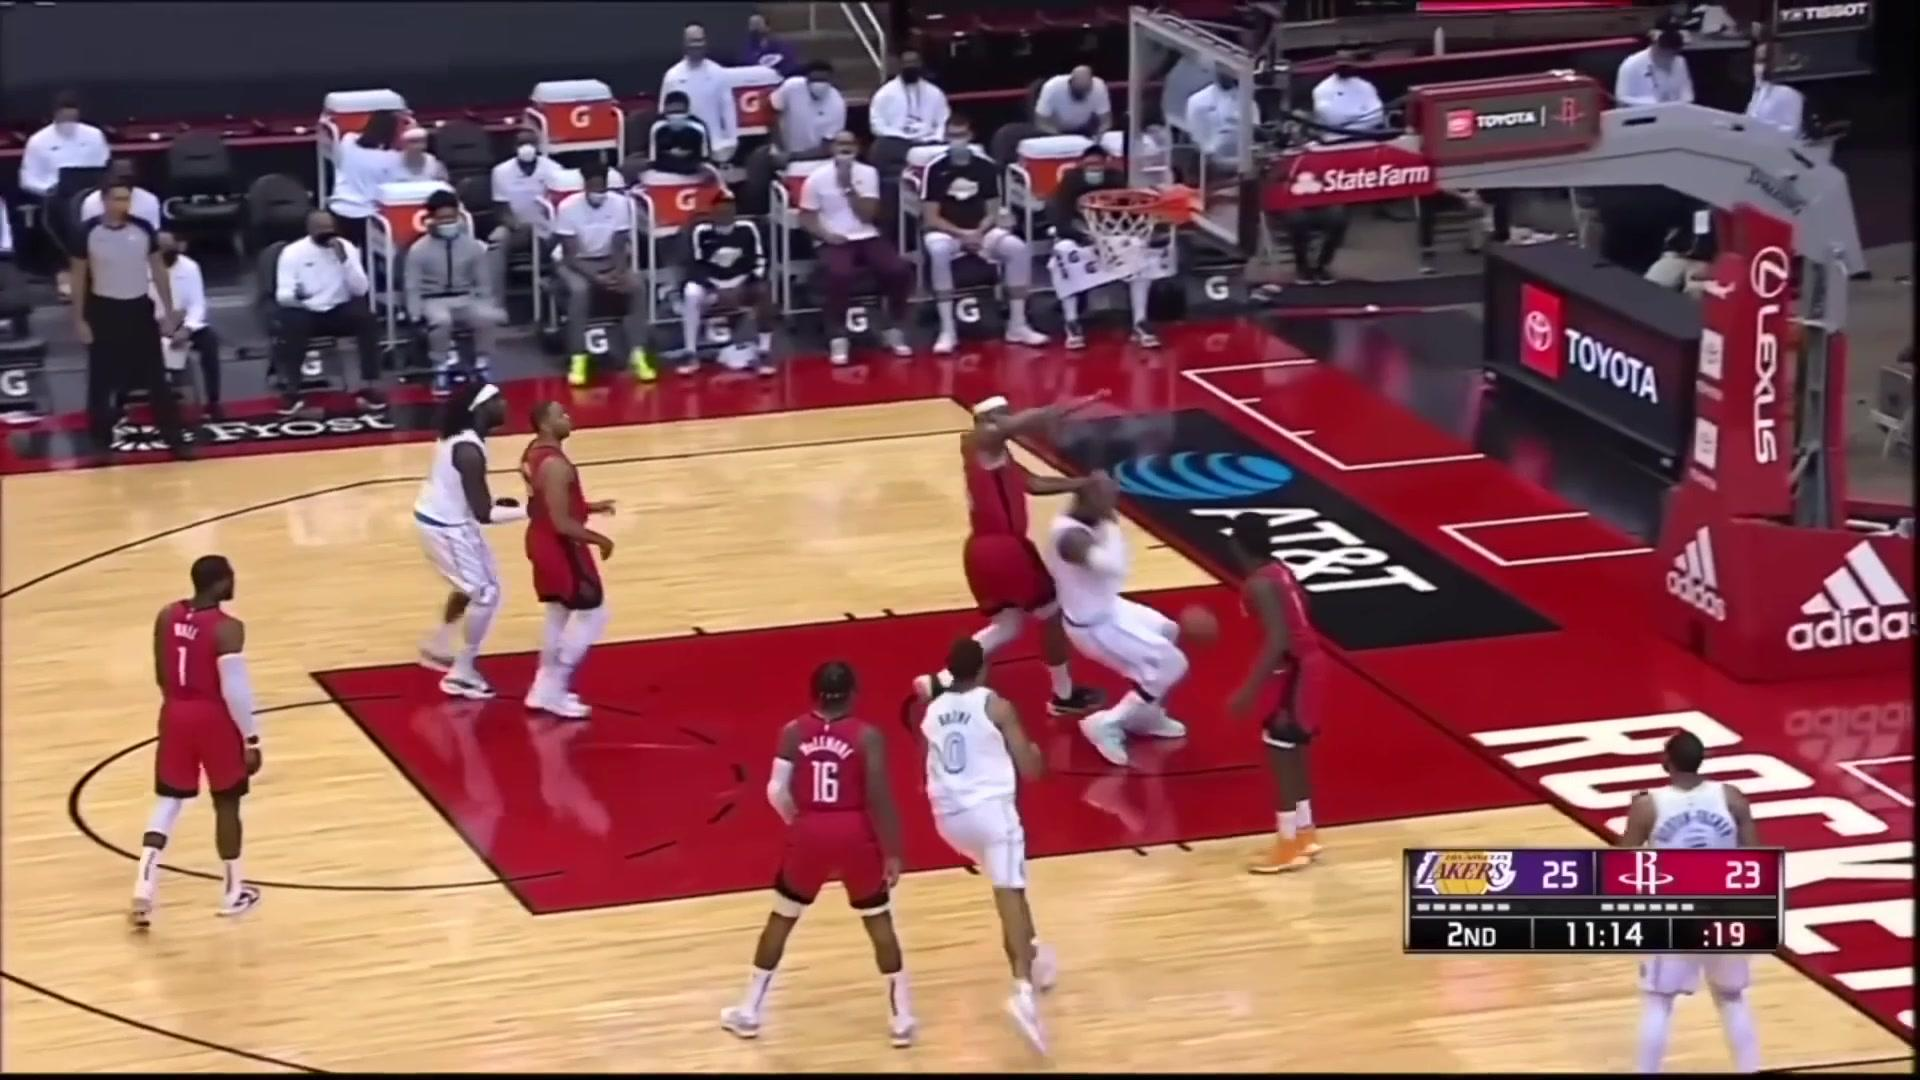foul: (922, 375, 1184, 762)
